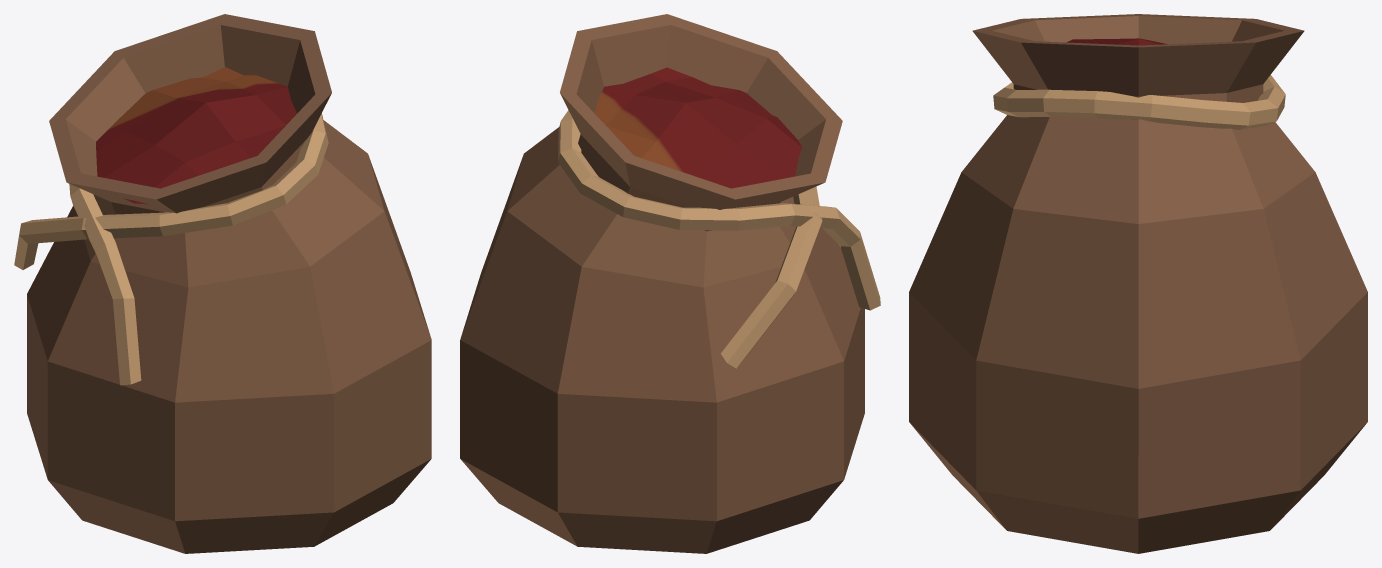
File: Bag.fbx
3 views of the same model, side by side, from view 1: azimuth 30°, elevation 25°; view 2: azimuth 150°, elevation 25°; view 3: azimuth 270°, elevation 25° (orthographic). The views are drawn at different scales.
Parts seen in each view (by area): view 1: Bag; view 2: Bag; view 3: Bag.
Boxes of the visible parts, x1=… form: Bag: x1=14, y1=14, x2=431, y2=553; Bag: x1=460, y1=14, x2=880, y2=553; Bag: x1=909, y1=14, x2=1367, y2=553.
Bounding box in the file's own units: 41.02 × 46.71 × 41.02.
